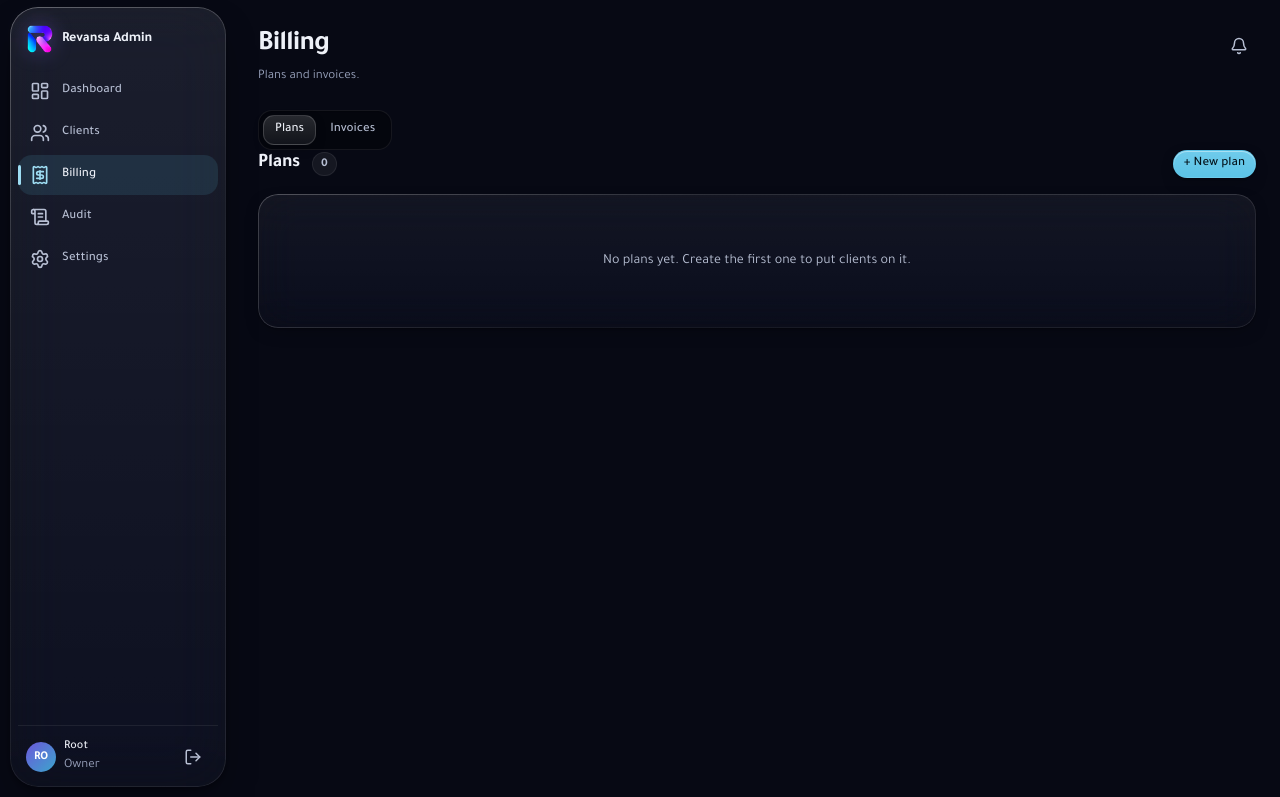
Test case: Billing: invoices › lets an owner mark a pending invoice FOR FREE
The image size is (1280, 797).
Click the radio button labelled "Invoices" at (353, 130), box [318,115,387,145]
(page scrolled)
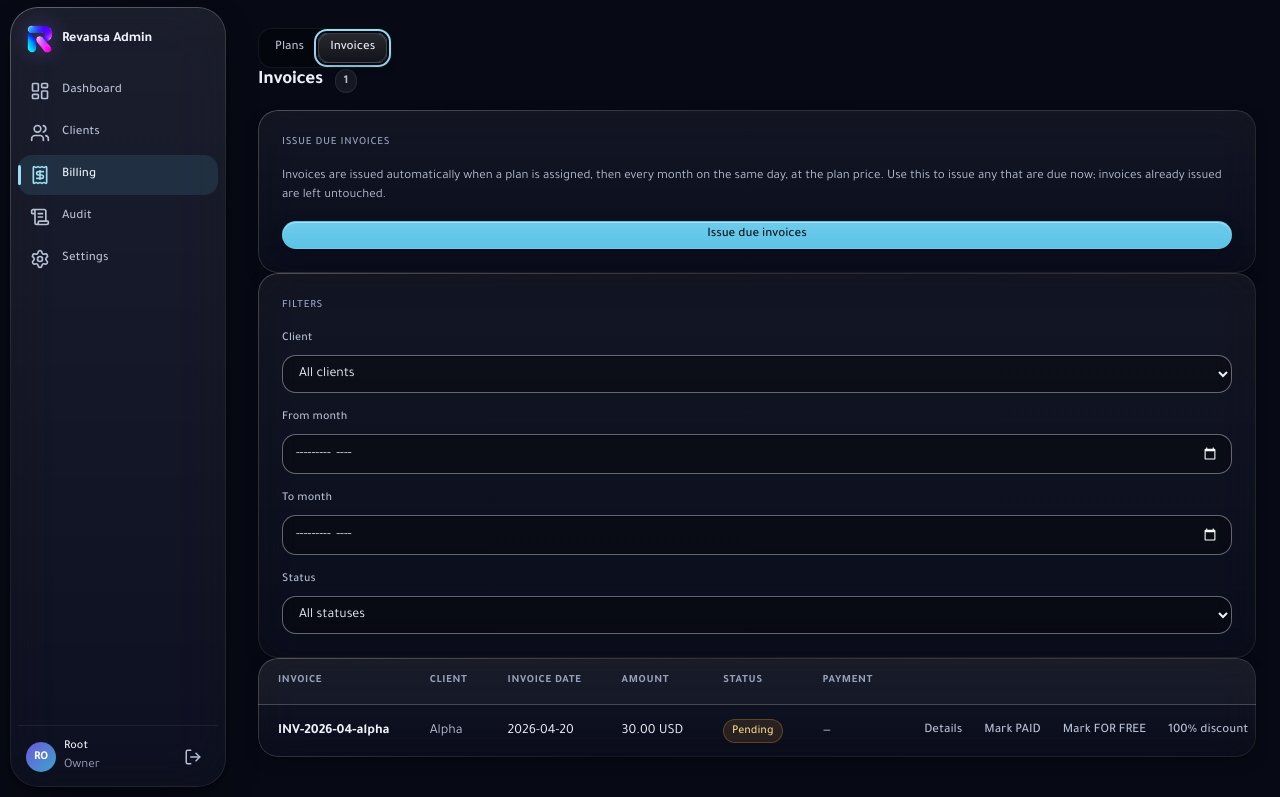
Click the button with aria-label "Mark INV-2026-04-alpha for free" at (1104, 731), box [1052,717,1157,745]
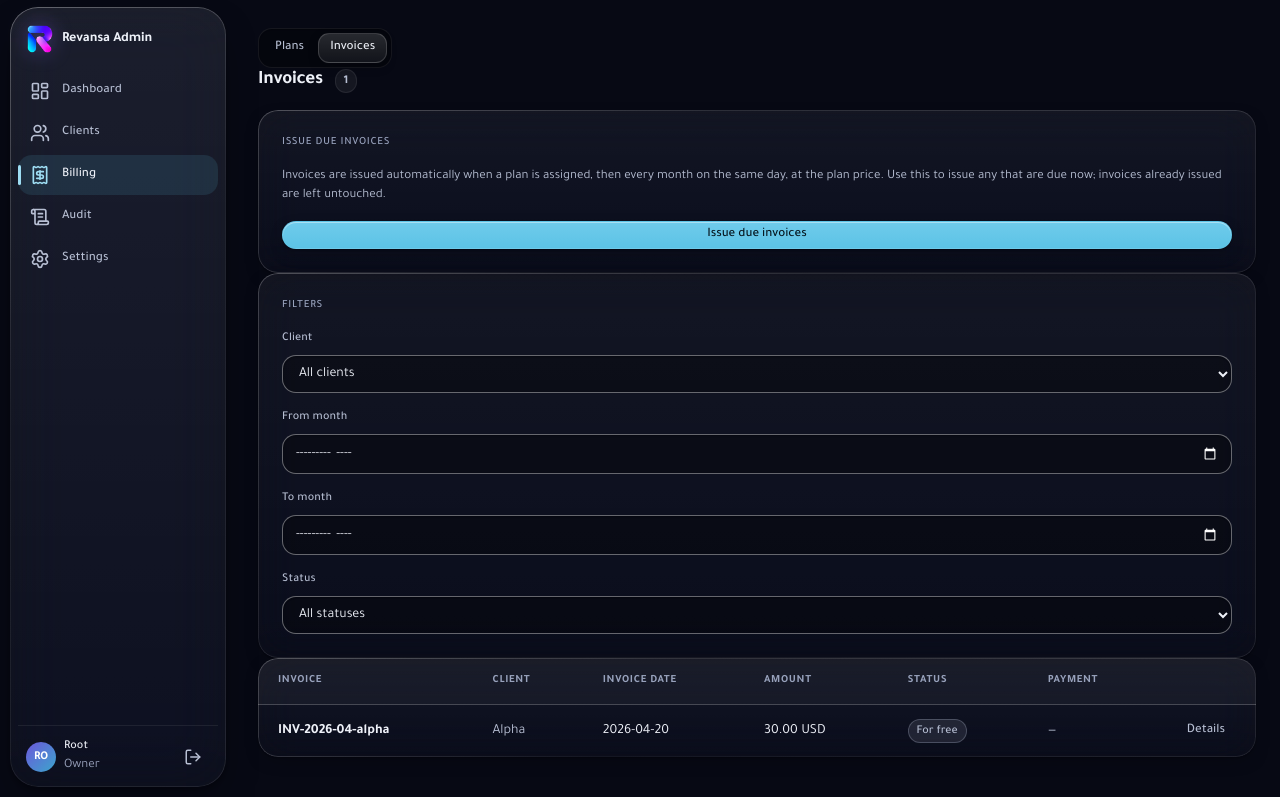
Expected: the text "For free" is shown, [917,724,958,738]
